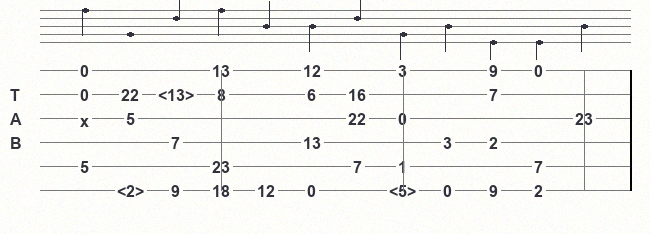0: (80, 62, 93, 78), (80, 86, 93, 102), (307, 182, 320, 198), (398, 110, 411, 126), (443, 182, 456, 198), (534, 62, 547, 78)
1: (398, 158, 411, 174)
12: (257, 182, 279, 198), (303, 62, 325, 78)
13: (212, 62, 234, 78), (303, 134, 325, 150)
16: (348, 86, 370, 102)
18: (212, 182, 234, 198)
2: (489, 134, 502, 150), (534, 182, 547, 198)
22: (121, 86, 143, 102), (348, 110, 370, 126)
23: (212, 158, 234, 174), (575, 110, 597, 126)
3: (398, 62, 411, 78), (443, 134, 456, 150)
5: (80, 158, 93, 174), (126, 110, 139, 126)
6: (307, 86, 320, 102)
7: (171, 134, 184, 150), (353, 158, 366, 174), (489, 86, 502, 102), (534, 158, 547, 174)
8: (217, 86, 230, 102)
9: (171, 182, 184, 198), (489, 62, 502, 78), (489, 182, 502, 198)
harmonic: (158, 86, 198, 102), (117, 182, 148, 198), (389, 182, 420, 198)
x: (80, 112, 93, 125)
